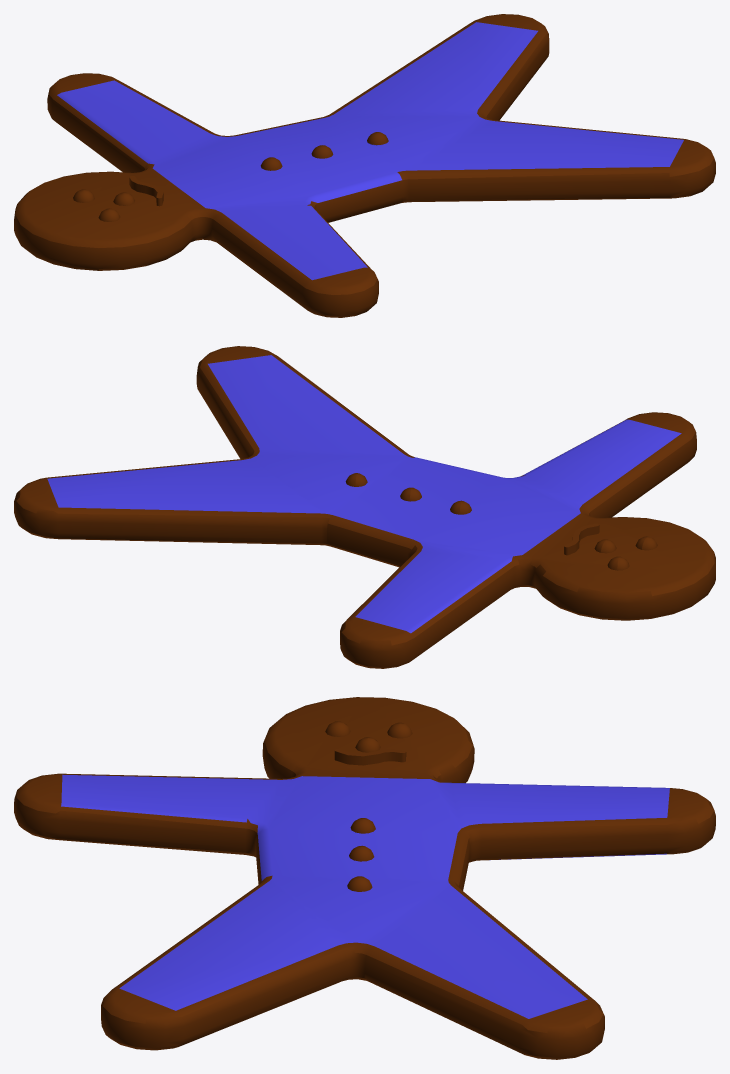
The model's file is cookie_manikin.FBX.
The picture shows the model from 3 angles, top to bottom: view 1: azimuth 30°, elevation 25°; view 2: azimuth 150°, elevation 25°; view 3: azimuth 270°, elevation 25°; orthographic projection. The views are drawn at different scales.
Visible parts, largest first — view 1: manikin; view 2: manikin; view 3: manikin.
Boxes of the visible parts, x1,y1,x2,y2 form: manikin: (14,14,715,317); manikin: (14,346,715,668); manikin: (14,697,715,1059).
Size of the model in its own units: 0.5923 by 0.0413 by 0.5197.
